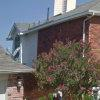Tree: (37, 38, 100, 100)
